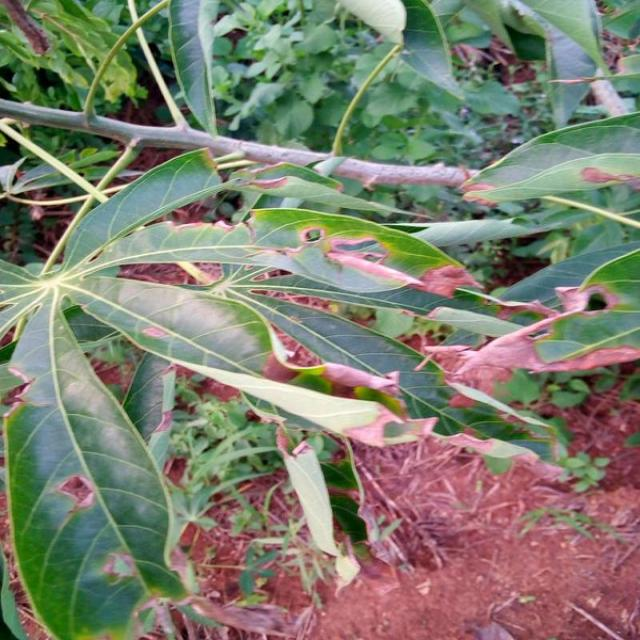cassava leaf: (0, 1, 638, 638), (2, 285, 190, 638)
